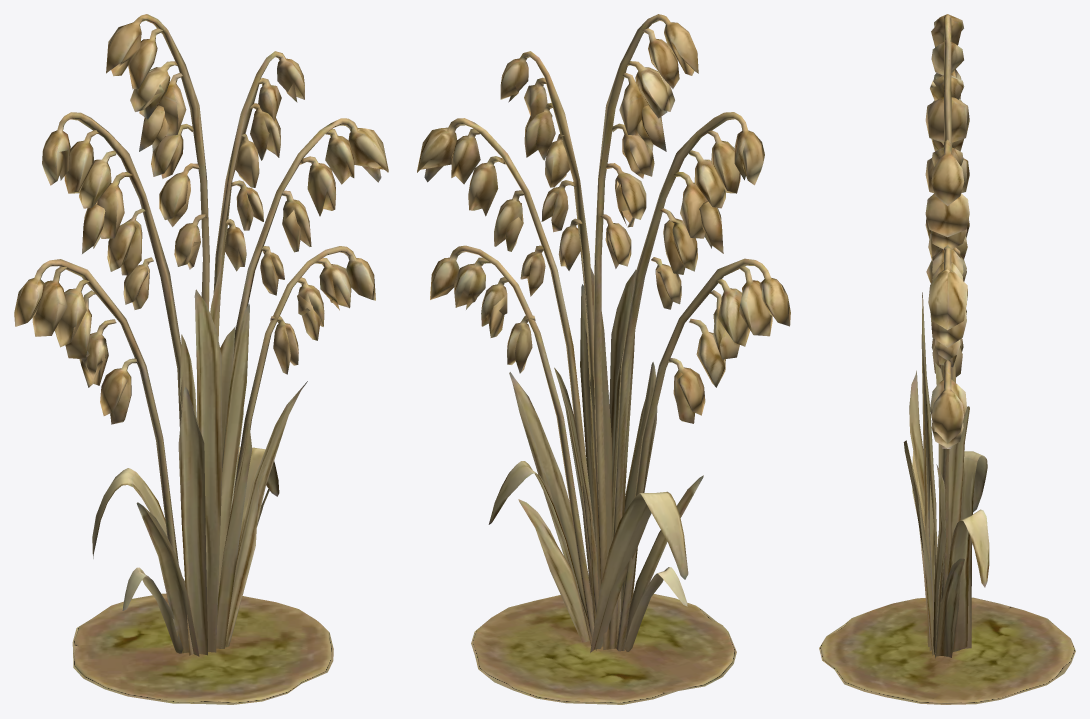
Rendered from camp_avoine.glb.
3 views of the same model, side by side, from view 1: azimuth 30°, elevation 25°; view 2: azimuth 150°, elevation 25°; view 3: azimuth 270°, elevation 25° (orthographic). The views are drawn at different scales.
Visible parts, largest first — view 1: geometry_0; view 2: geometry_0; view 3: geometry_0.
Part boxes in pixels (bbox=[...]): geometry_0: bbox=[14, 14, 388, 704]; geometry_0: bbox=[417, 14, 790, 704]; geometry_0: bbox=[819, 14, 1075, 704].
Bounding box in the file's own units: 0.5728 × 0.9507 × 0.3628.
Materials: 1 (1 with a texture image).
